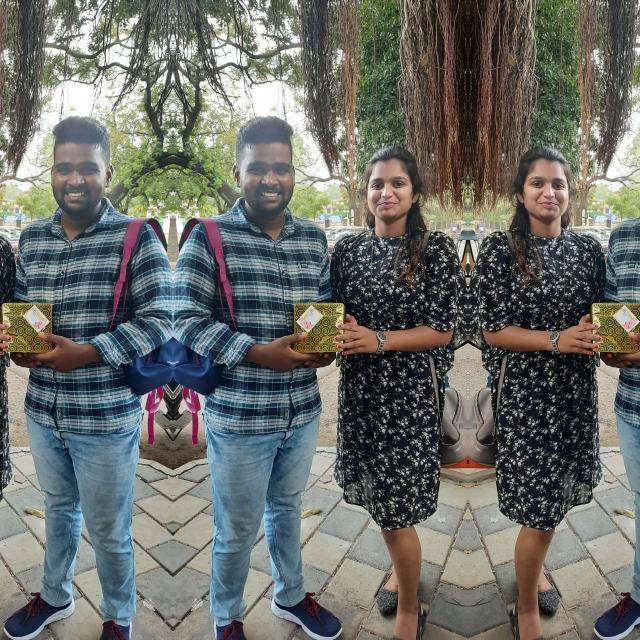person: (302, 134, 468, 538), (466, 134, 632, 538), (202, 114, 340, 556), (5, 114, 142, 556), (594, 114, 640, 555), (0, 134, 41, 538)
